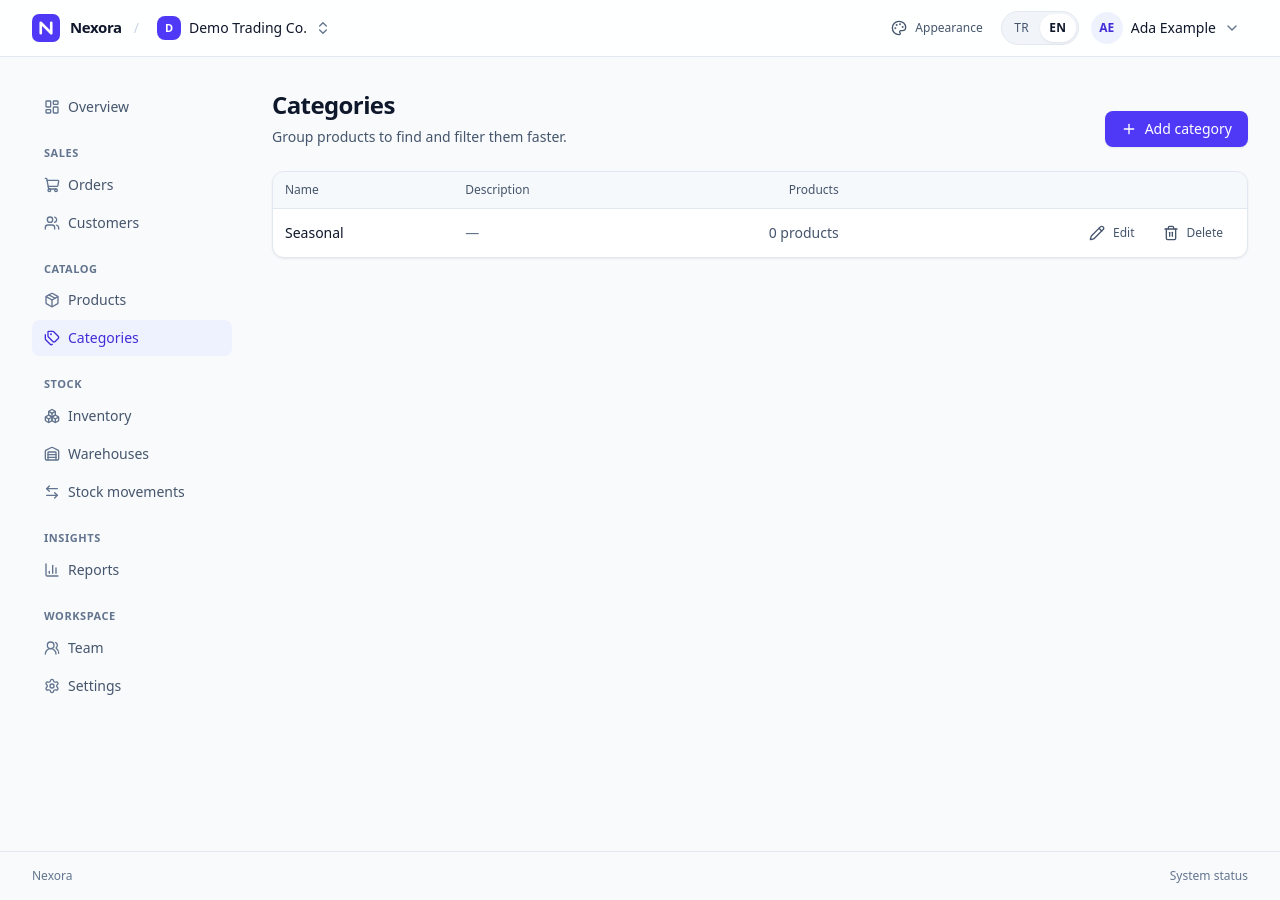
Test case: CategoriesPage › switches to the explanation when the API reports the category in use
The image size is (1280, 900).
Expected: the heading "Categories" is shown, [272,88,395,121]
Click the button with aria-label "Delete Seasonal". click: (1193, 233)
box: [1150,217,1235,249]
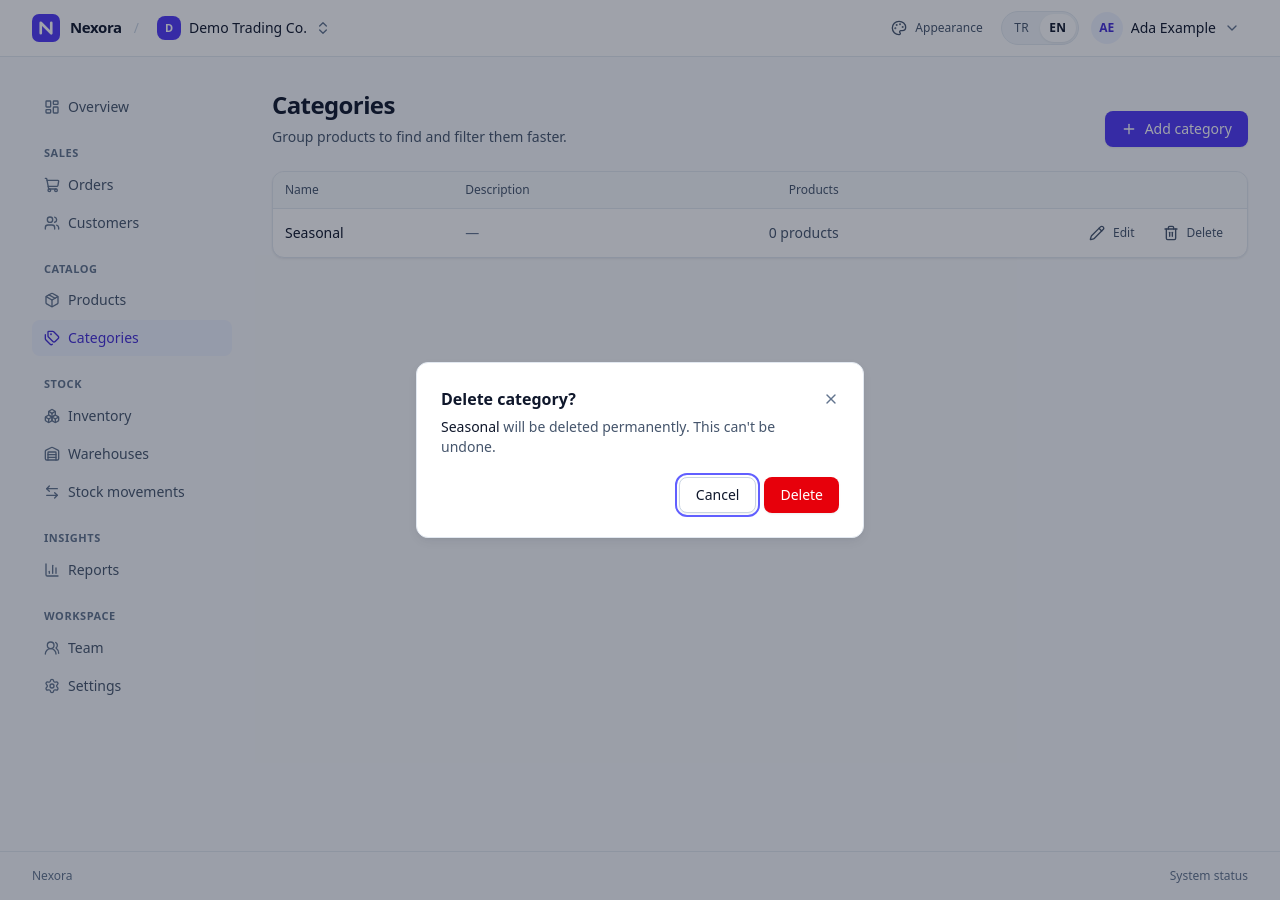
Click the button "Delete". click: (802, 495)
box: [764,477,839,513]
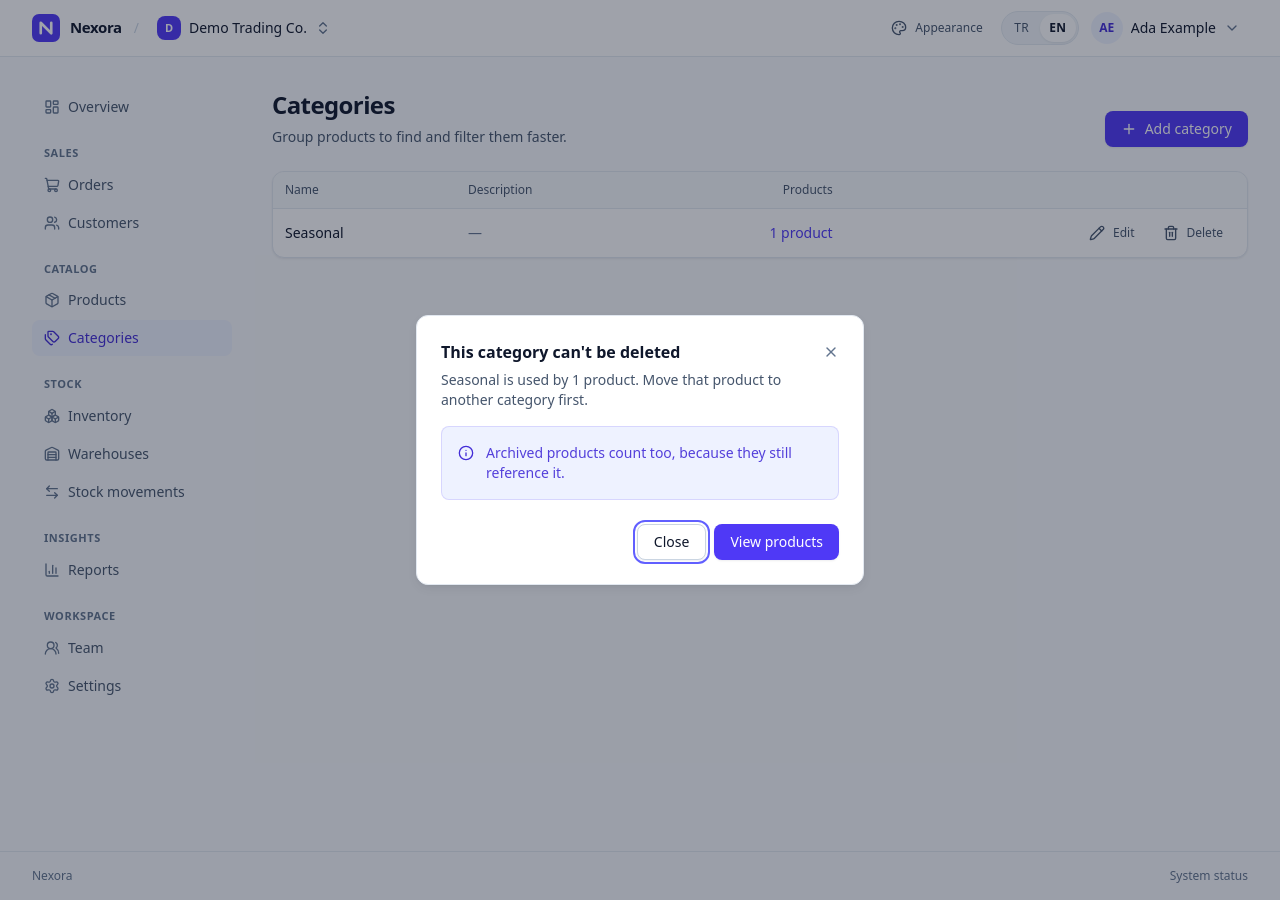
Result: the dialog "This category can't be deleted" shows "Seasonal is used by 1 product." at [441,370,781,409]
